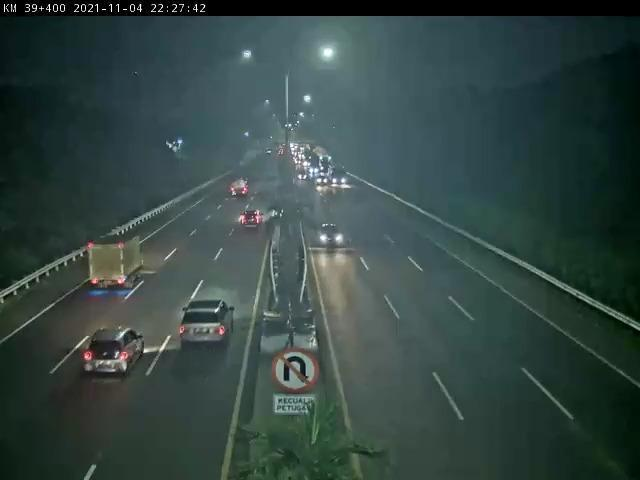car: (87, 327, 145, 376), (182, 301, 237, 346), (316, 223, 347, 247), (241, 209, 262, 229)
truck: (90, 233, 146, 290), (231, 177, 251, 198)
